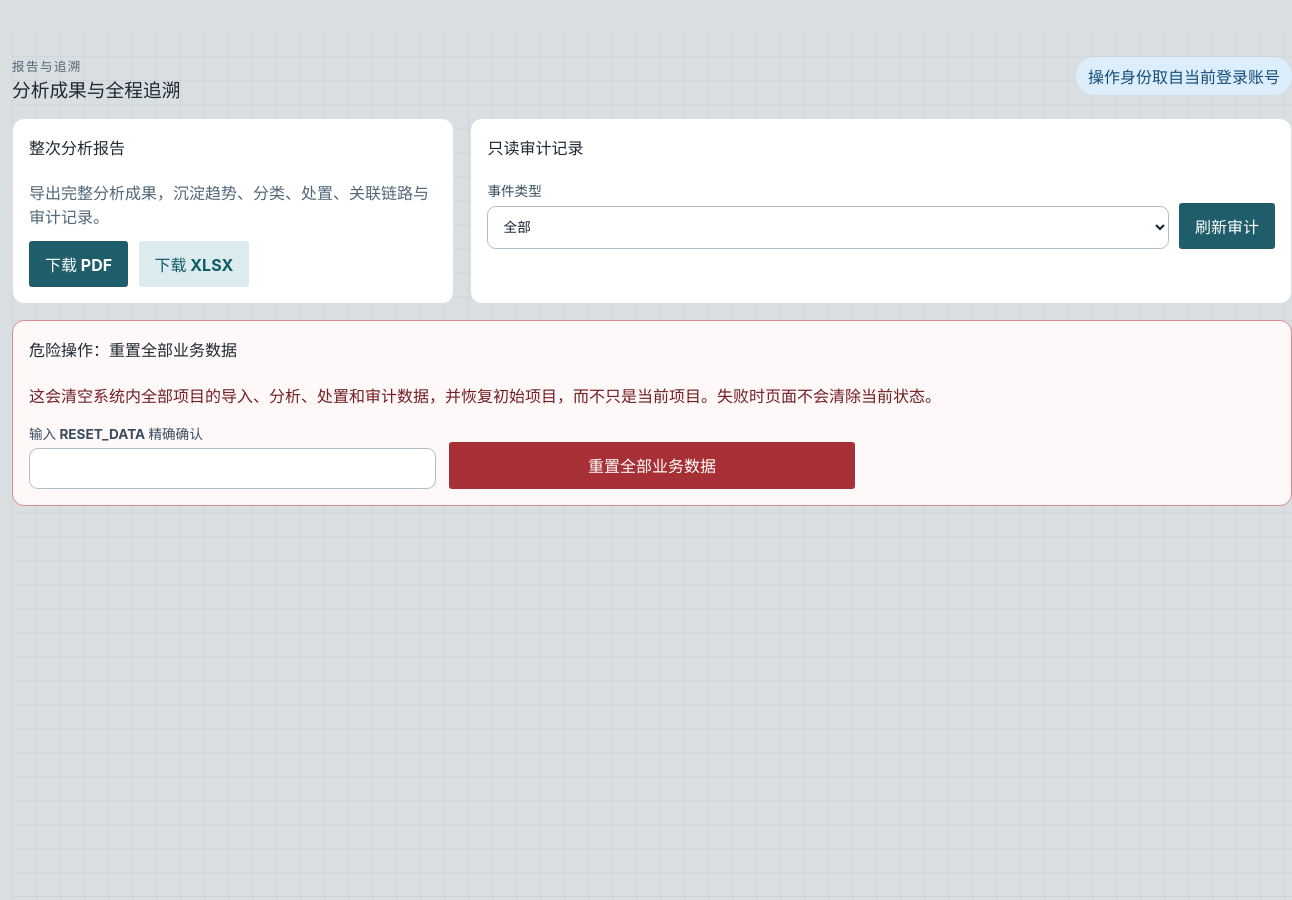
Test: M5 报告、审计与演示复位 › 下载真实 PDF 和 XLSX Blob 并反馈服务端文件名与大小
Click the button with test id "report-pdf" at (79, 264), box [29,241,128,288]
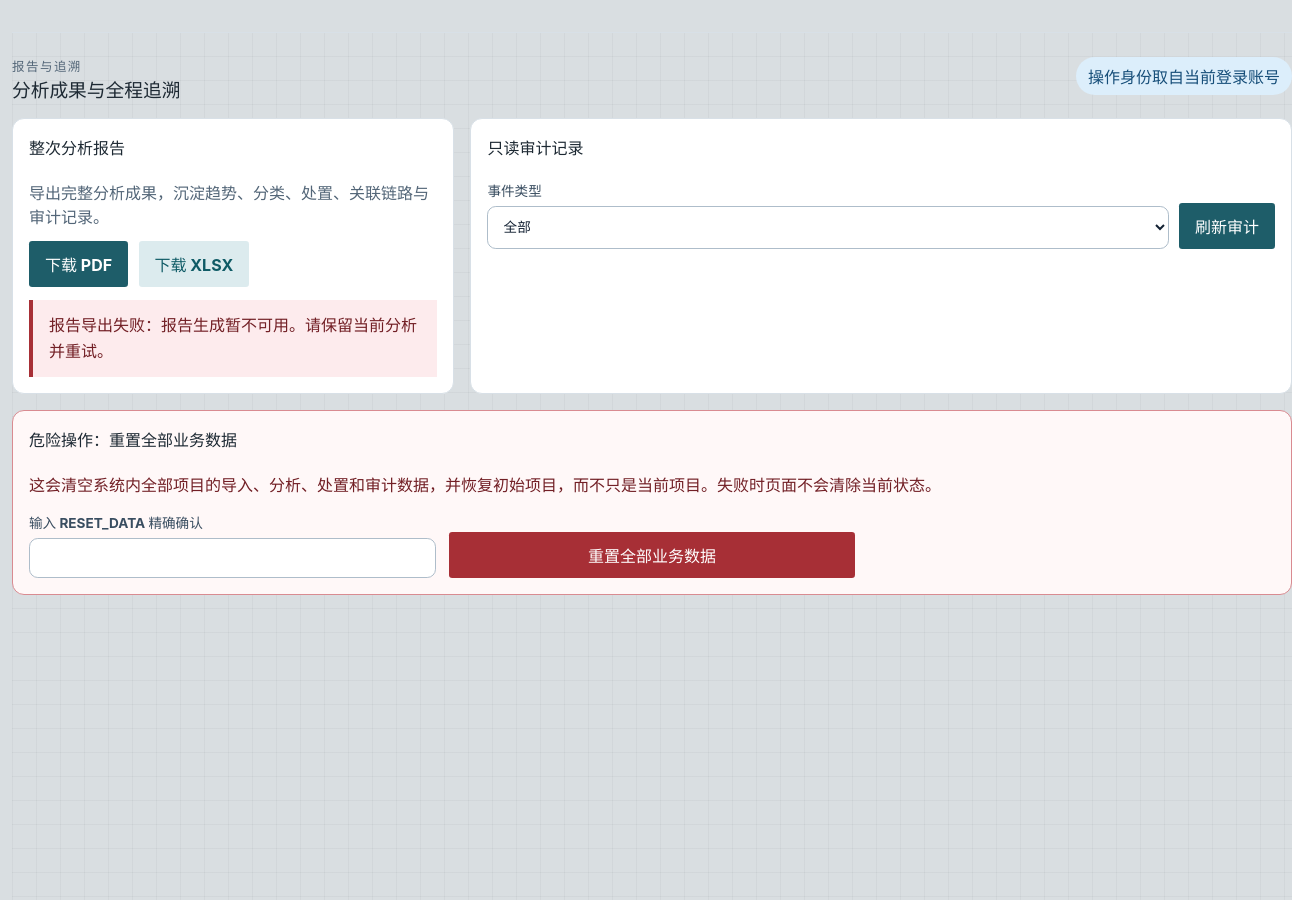
Expected: the message with test id "report-message" shows "报告生成暂不可用", [49,315,417,361]
Click the button with test id "report-pdf" at (79, 264), box [29,241,128,288]
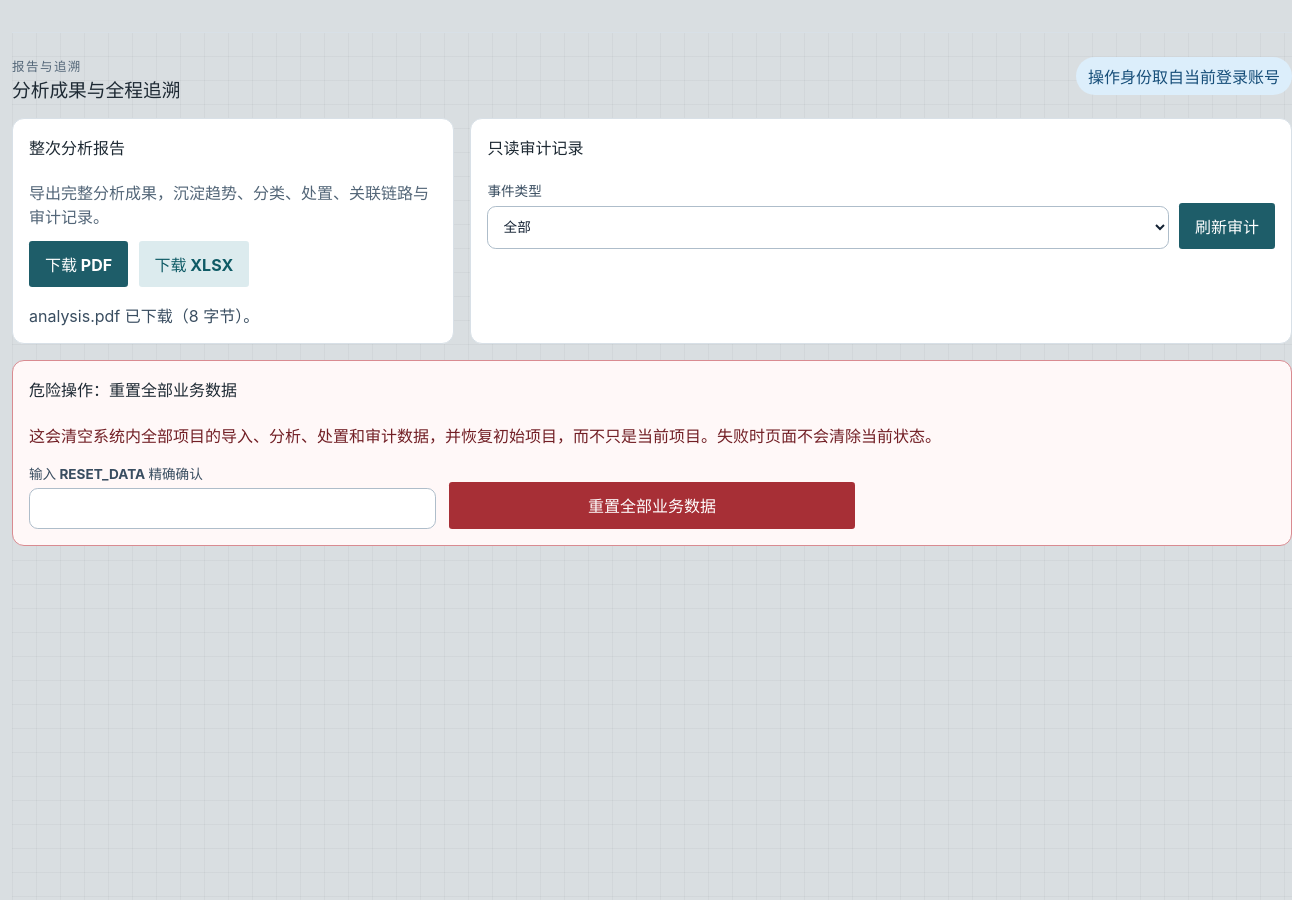
Expected: the message with test id "report-message" shows "analysis.pdf 已下载", [29,306,259,326]
Click the button with test id "report-xlsx" at (194, 264), box [138,241,249,288]
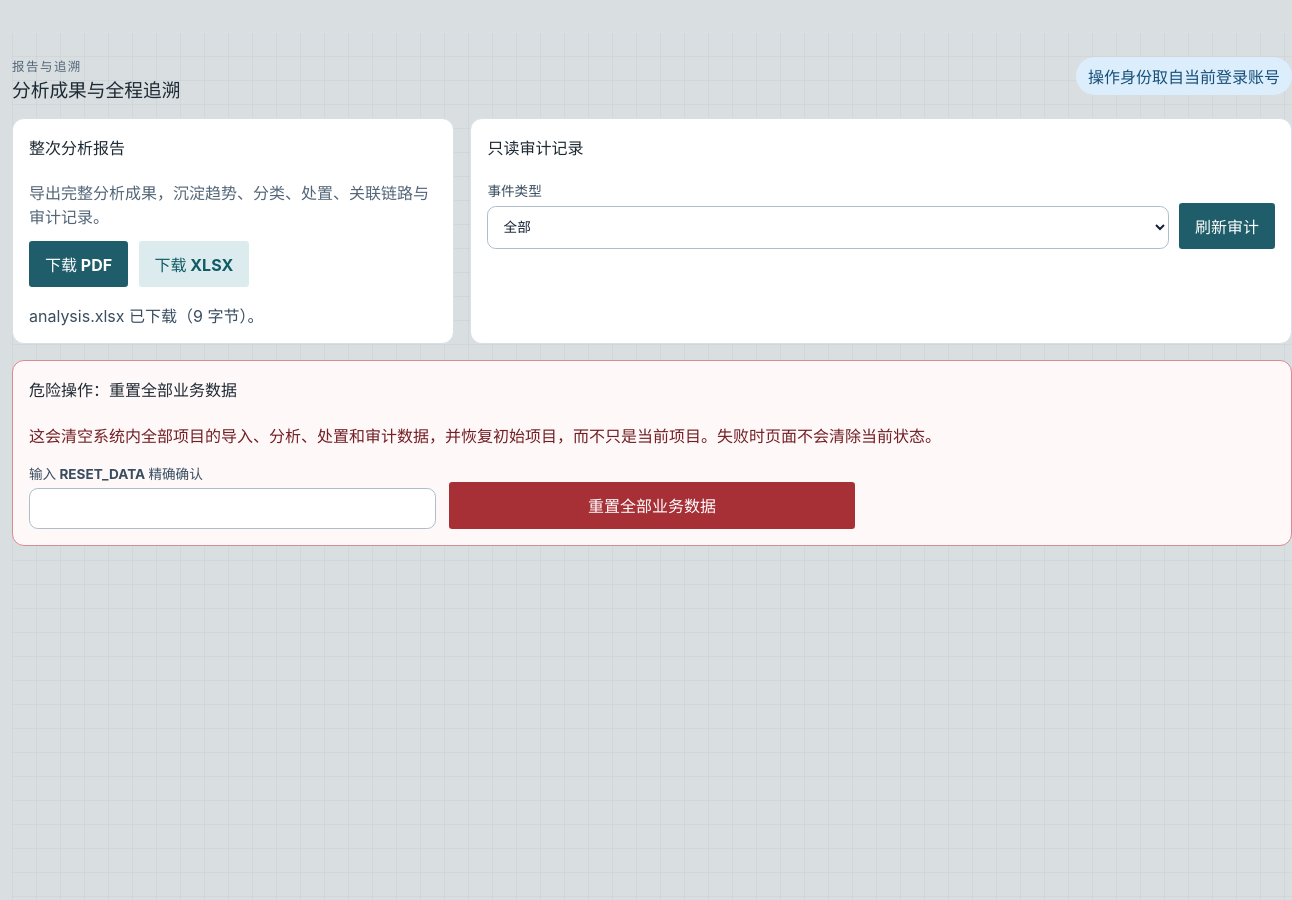
Expected: the message with test id "report-message" shows "analysis.xlsx 已下载", [29,306,264,326]
